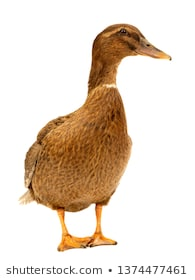duck: (12, 17, 182, 256)
